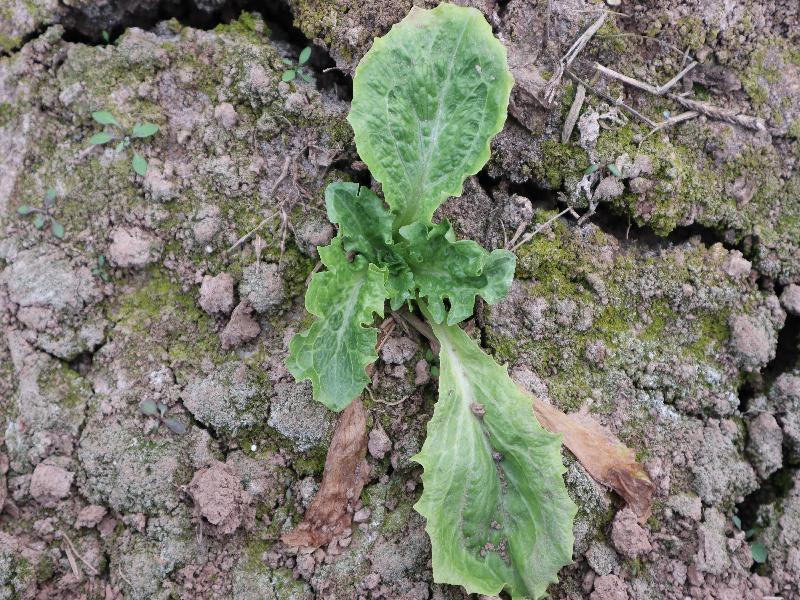lettuce: (283, 1, 579, 600)
